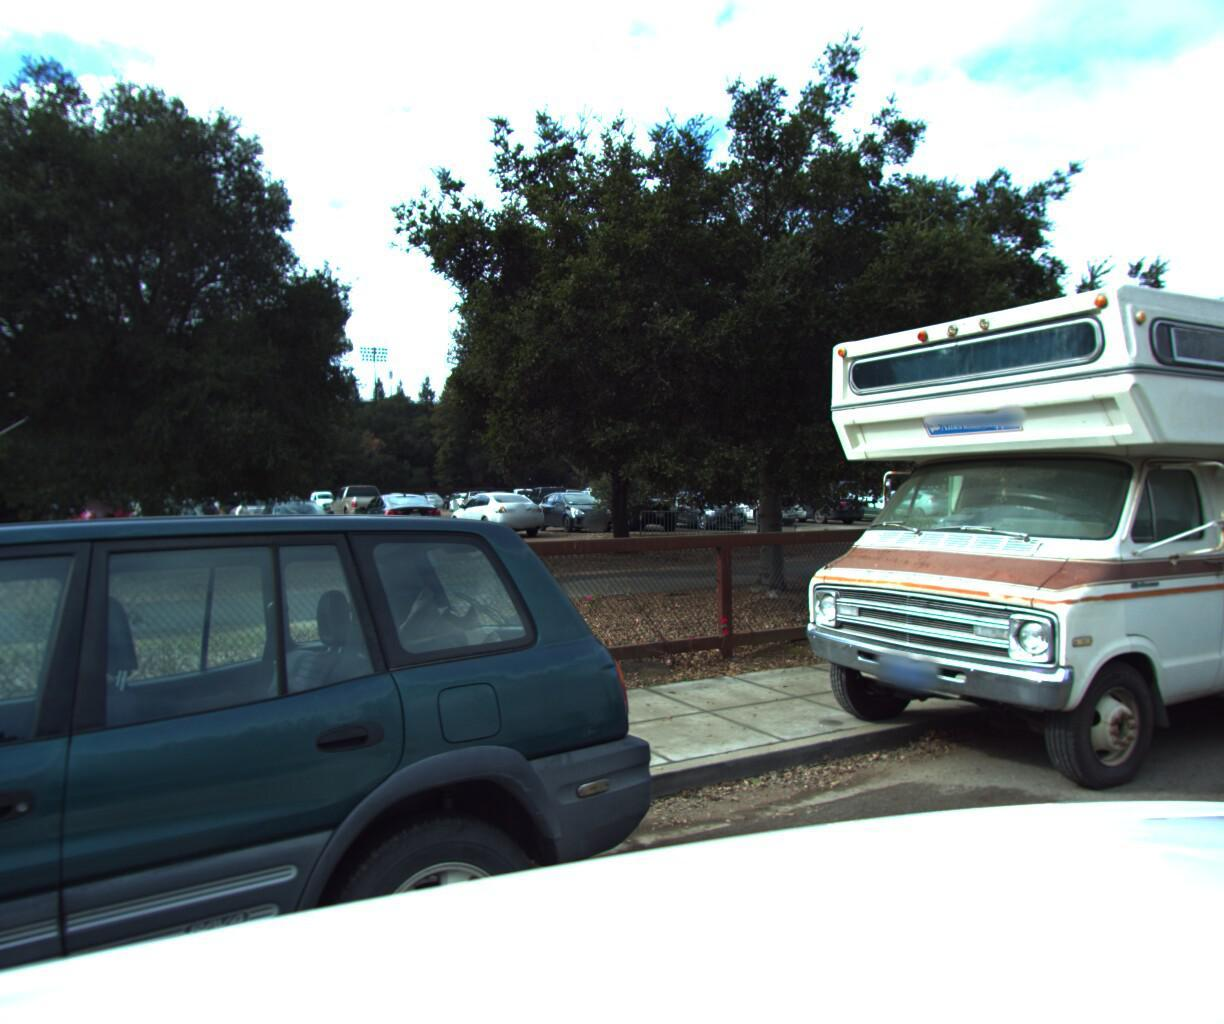car: (0, 499, 725, 1024)
other_vehicle: (736, 221, 1224, 857)
